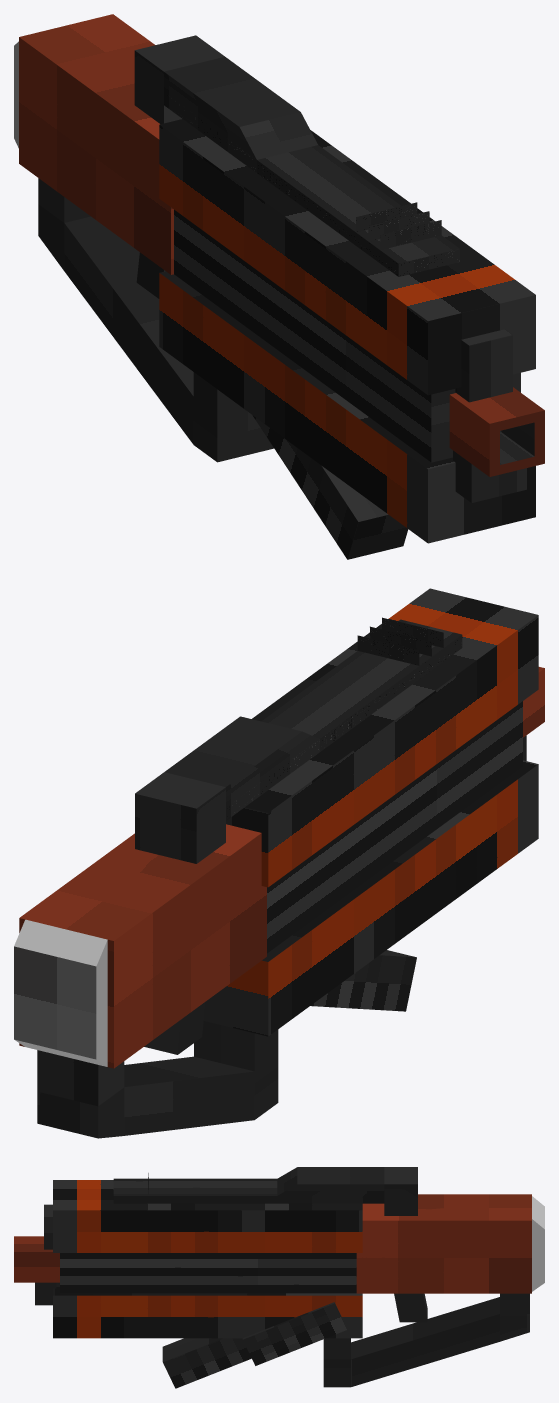
Rendered from Gun-16.fbx.
3 renders of one model, top to bottom at view 1: azimuth 30°, elevation 25°; view 2: azimuth 150°, elevation 25°; view 3: azimuth 270°, elevation 25°, orthographic. The views are drawn at different scales.
Parts seen in each view (by area): view 1: Gun-16; view 2: Gun-16; view 3: Gun-16.
Boxes of the visible parts, <box> form: Gun-16: <box>14,14,544,559</box>; Gun-16: <box>14,588,544,1138</box>; Gun-16: <box>14,1167,544,1388</box>.
Bounding box in the file's own units: 12.31 × 36.99 × 86.73.
Materials: 2 (2 with a texture image).
